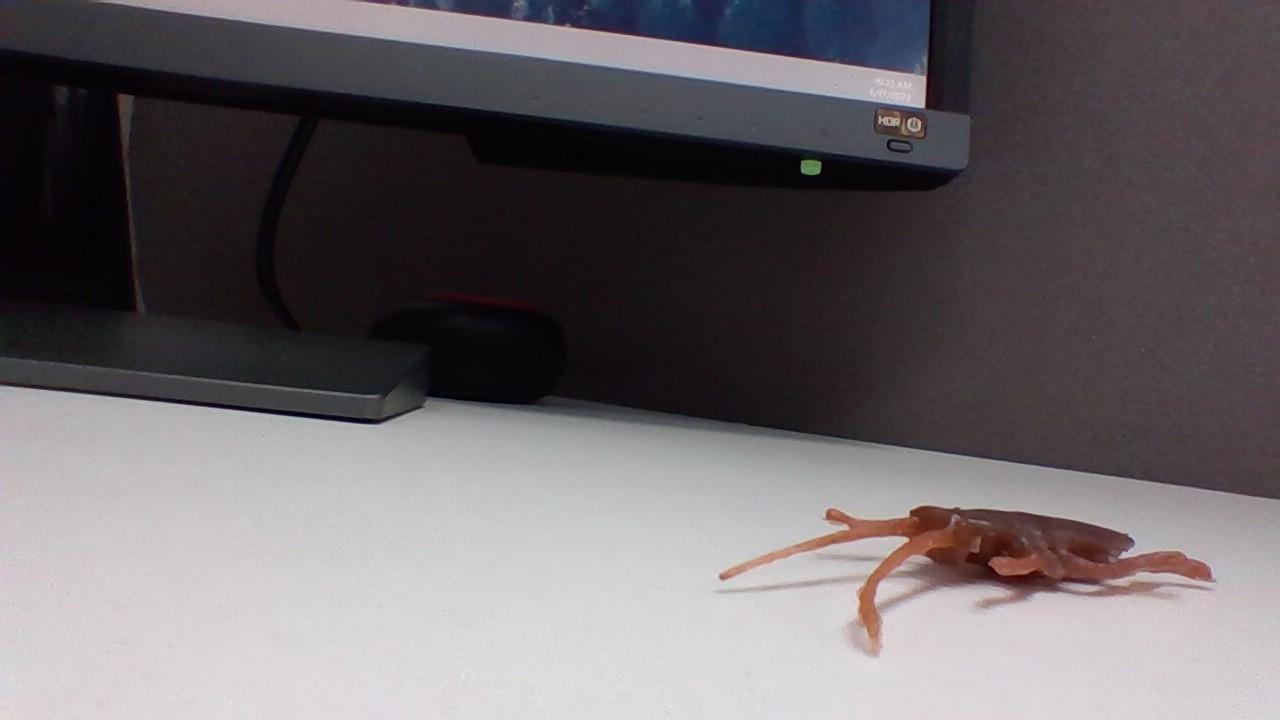cockroach: (660, 498, 1216, 654)
